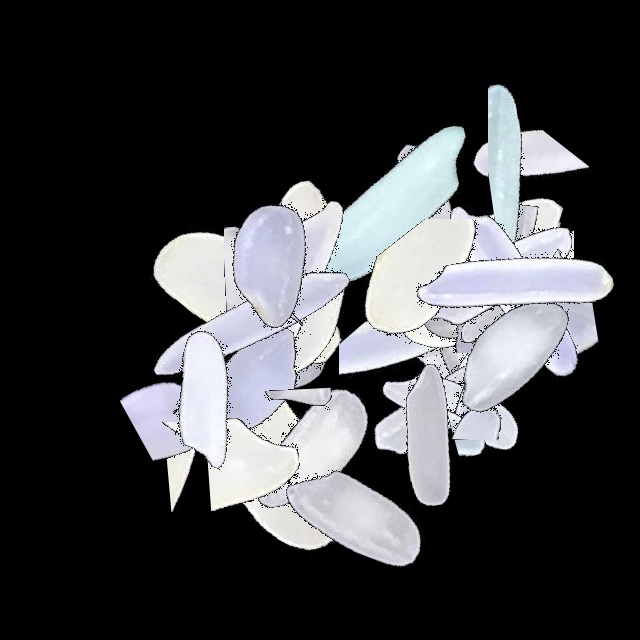Broken: (388, 245, 638, 407), (437, 206, 598, 456), (339, 253, 487, 503), (77, 322, 327, 470), (325, 219, 575, 365), (390, 128, 640, 269), (224, 151, 356, 401), (75, 422, 325, 552), (488, 42, 615, 292), (141, 405, 391, 522), (334, 245, 584, 353), (94, 407, 344, 512), (470, 184, 574, 434), (299, 347, 549, 449), (459, 130, 561, 380), (230, 248, 331, 498), (378, 254, 478, 504), (218, 150, 468, 245), (345, 347, 595, 440), (245, 308, 332, 558), (241, 170, 327, 420), (390, 185, 640, 271), (443, 266, 524, 516), (504, 216, 583, 466), (366, 382, 616, 460)
Full: (156, 200, 406, 450), (348, 223, 598, 473), (348, 209, 598, 459), (124, 171, 374, 421), (354, 143, 604, 393), (371, 199, 621, 449), (150, 335, 400, 585), (306, 287, 556, 537), (170, 161, 420, 411), (328, 280, 578, 530), (297, 88, 547, 338), (365, 176, 615, 426), (266, 79, 516, 329), (184, 321, 434, 571), (165, 176, 415, 426), (228, 390, 478, 640), (301, 312, 551, 562), (131, 253, 381, 503), (368, 148, 618, 398), (124, 199, 374, 449), (390, 163, 640, 413), (83, 272, 333, 522), (390, 233, 640, 483), (147, 142, 397, 392), (390, 158, 640, 408)
